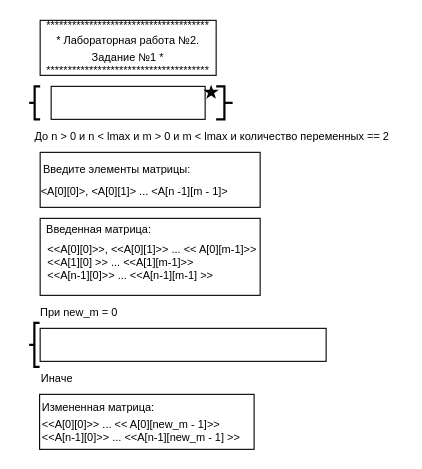
Some shapes in this 422 by 469 pixel diagram are drawn without their labels. The box of each missing label's shape, as (x1, y1, x2, y2) in pixels:
Введите число строк(n) и столбцов(m) матрицы: (50, 85, 205, 119)
Матрица пуста, нуля не было ни в одном из столбцов.: (39, 327, 326, 361)
